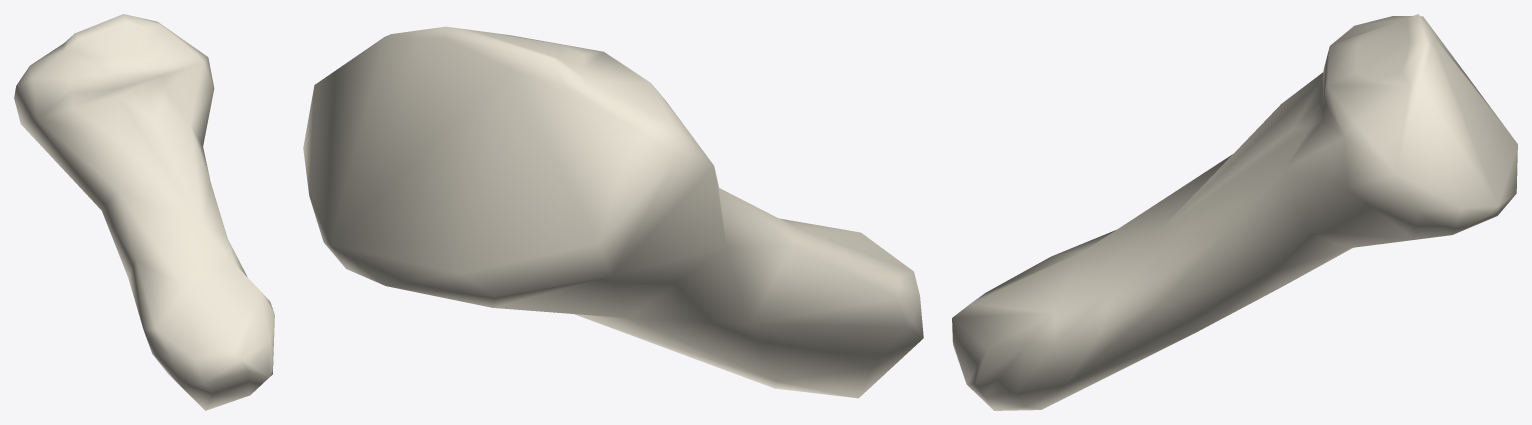
3 views of the same model, side by side, from view 1: azimuth 30°, elevation 25°; view 2: azimuth 150°, elevation 25°; view 3: azimuth 270°, elevation 25° (orthographic). The views are drawn at different scales.
Visible parts, largest first — view 1: ZA_246f9aa59fd09a13; view 2: ZA_246f9aa59fd09a13; view 3: ZA_246f9aa59fd09a13.
Part boxes in pixels (left/top/right/bottom): ZA_246f9aa59fd09a13: left=14, top=14, right=274, bottom=410; ZA_246f9aa59fd09a13: left=303, top=26, right=923, bottom=398; ZA_246f9aa59fd09a13: left=952, top=14, right=1517, bottom=410.
Size of the model in its own units: 0.00986 by 0.0139 by 0.0179.
